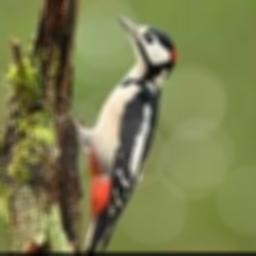Woodpecker: (54, 13, 175, 253)
